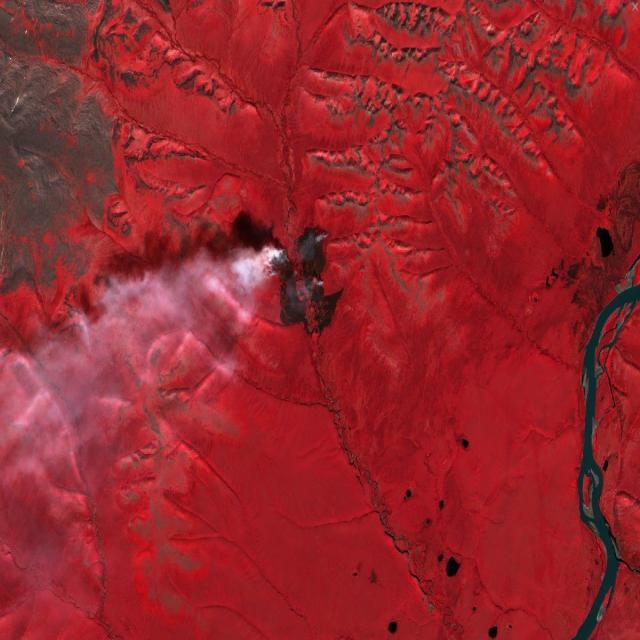fire: (262, 228, 329, 298)
